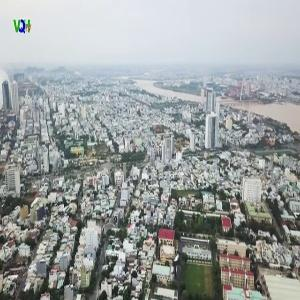drone: (152, 238, 207, 293)
